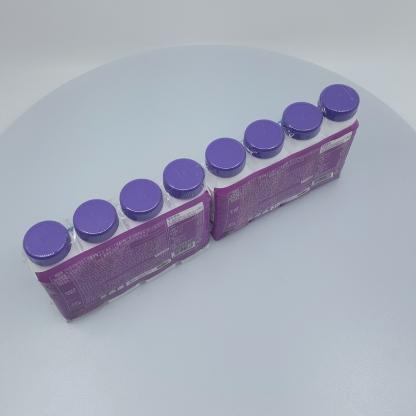-------------400ML: (20, 158, 211, 323), (198, 84, 360, 241)
